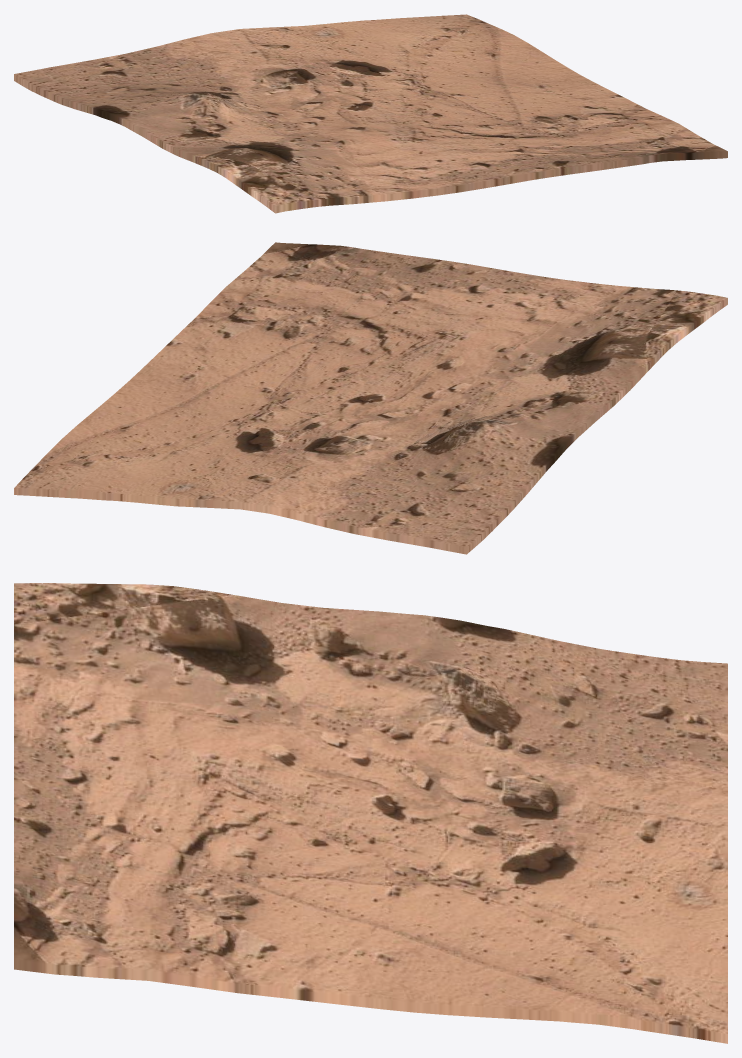
The picture shows the model from 3 angles, top to bottom: view 1: azimuth 30°, elevation 25°; view 2: azimuth 150°, elevation 25°; view 3: azimuth 270°, elevation 25°; orthographic projection. The views are drawn at different scales.
Bounding box in the file's own units: 0.5 × 0.123 × 0.5.
1 material, 1 textured.
